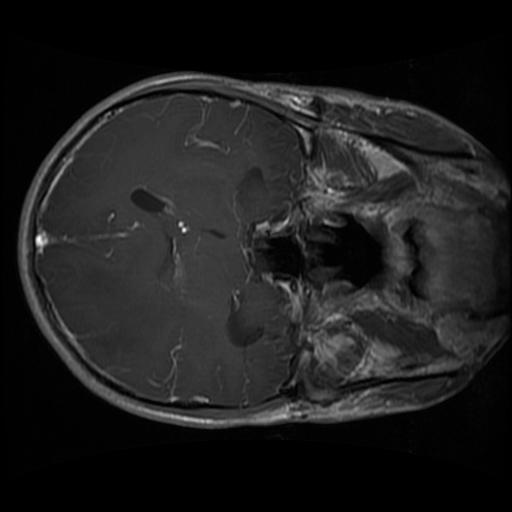glioma: (153, 211, 190, 299)
